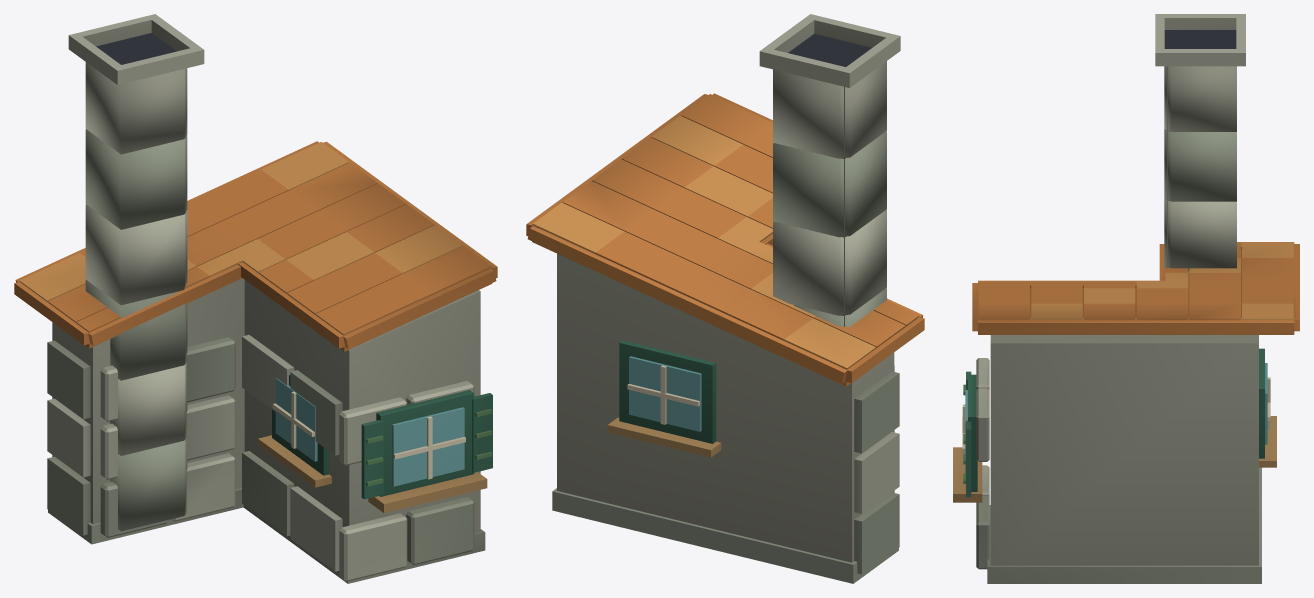
File: kitchen_wing_b.glb
The picture shows the model from 3 angles, left to right: view 1: azimuth 30°, elevation 25°; view 2: azimuth 150°, elevation 25°; view 3: azimuth 270°, elevation 25°; orthographic projection. The views are drawn at different scales.
Visible parts, largest first — view 1: kitchen_wing_b; view 2: kitchen_wing_b; view 3: kitchen_wing_b.
Boxes of the visible parts, left/top/right/bottom form: kitchen_wing_b: left=14, top=14, right=497, bottom=583; kitchen_wing_b: left=526, top=14, right=924, bottom=583; kitchen_wing_b: left=953, top=14, right=1299, bottom=583.
Bounding box in the file's own units: 1.61 × 2.36 × 1.67.
